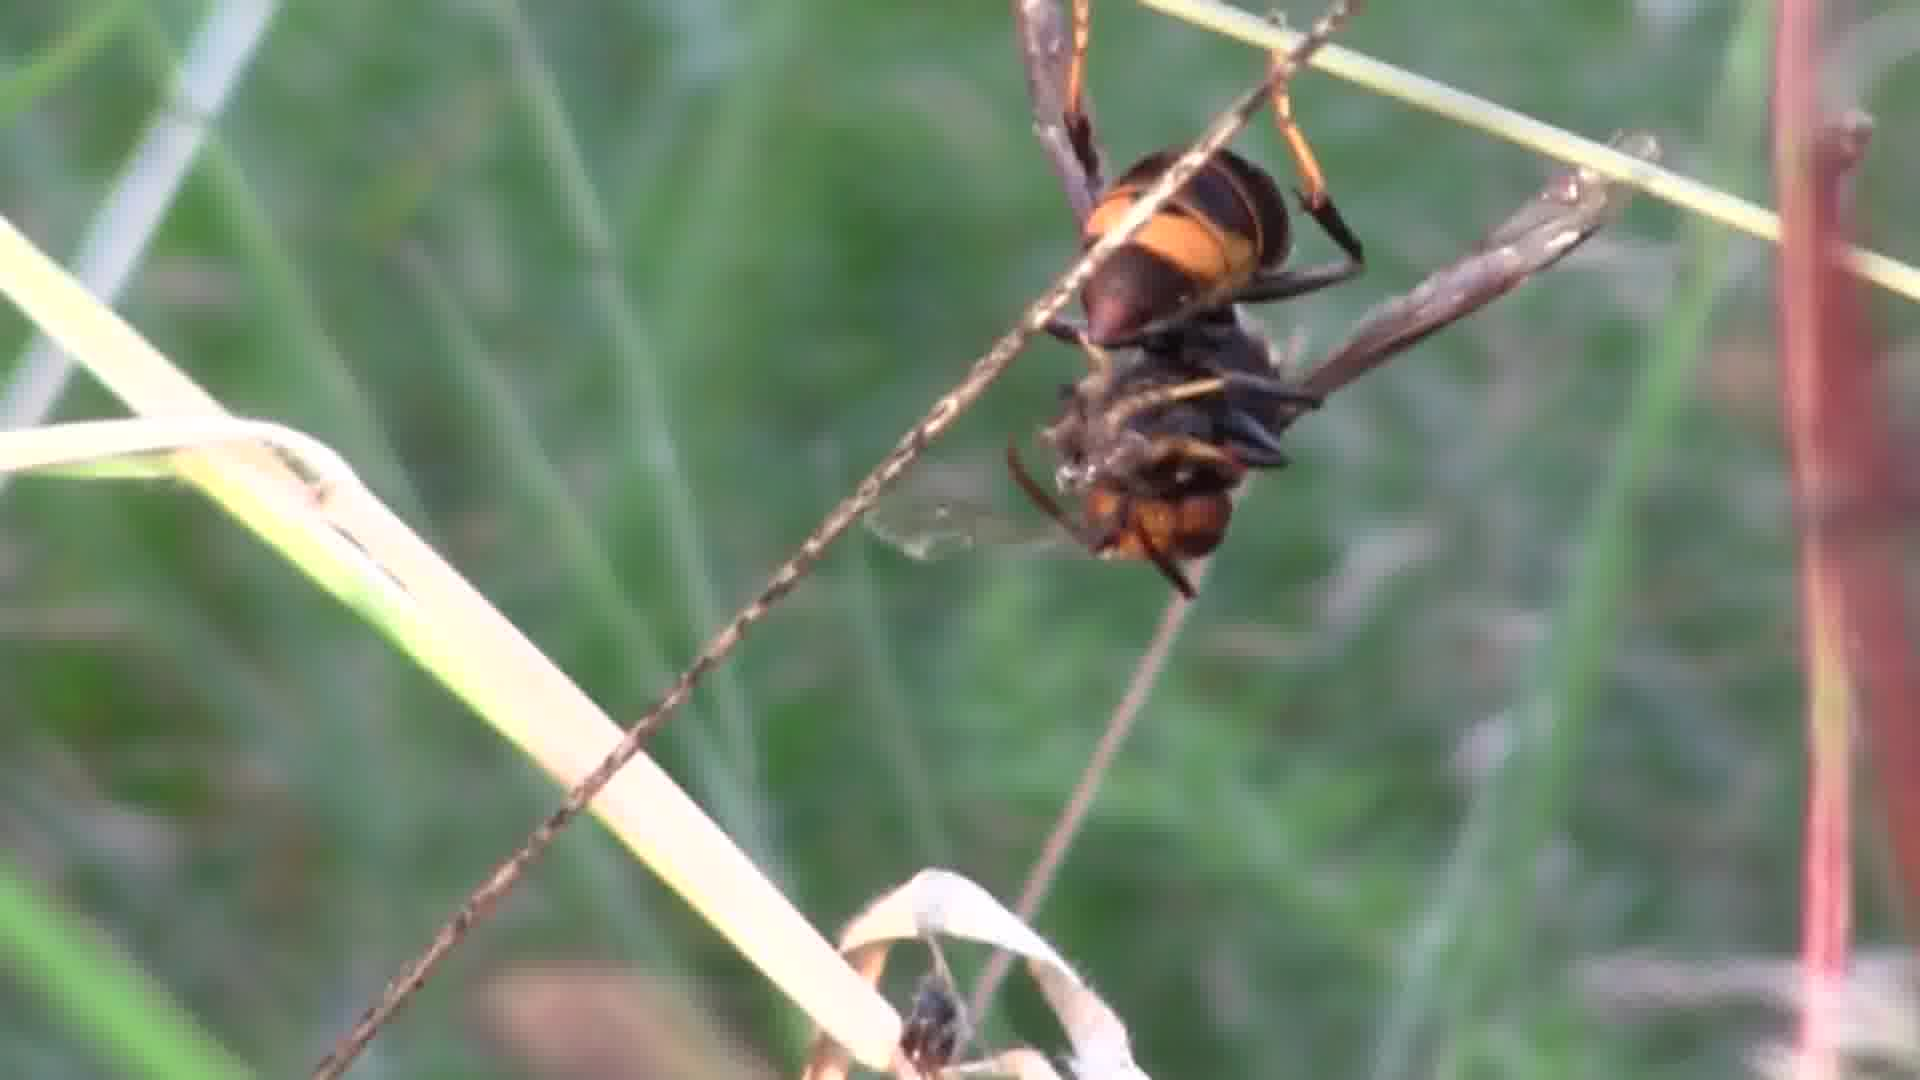hornet: (953, 11, 1422, 638)
